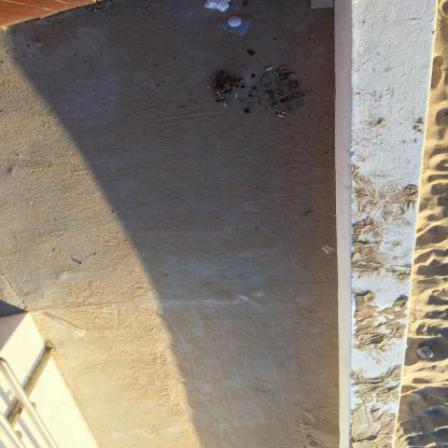Cigarette: (277, 115, 285, 119), (278, 97, 283, 102), (326, 126, 331, 131), (282, 66, 288, 70), (267, 69, 273, 73), (95, 10, 103, 12), (292, 76, 298, 78), (283, 71, 289, 73), (281, 67, 286, 69), (335, 215, 337, 219), (283, 113, 287, 115)
Cup: (323, 247, 335, 255), (77, 331, 88, 339)
Paper: (205, 2, 234, 13)
Plastic bag - wrapper: (219, 2, 265, 38)
